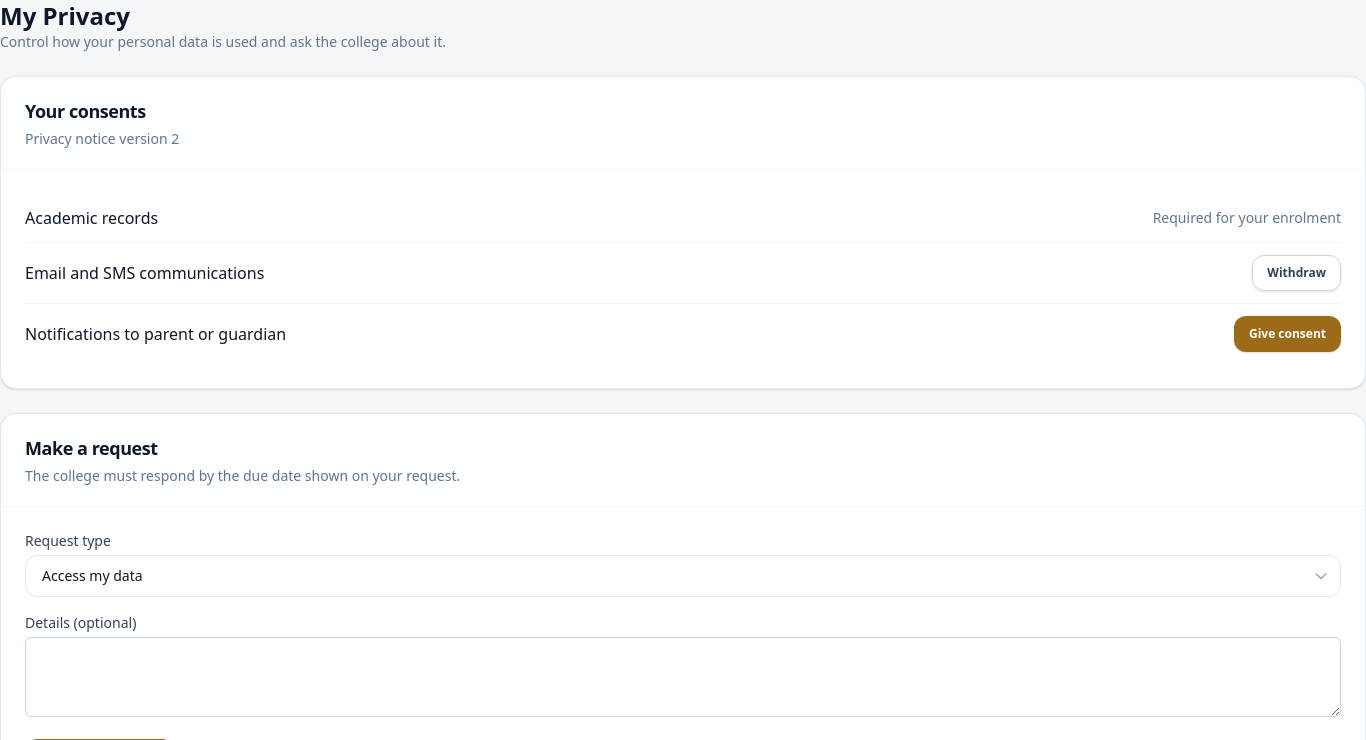
Scenario: MyPrivacyPage › does not submit a grievance without a description
This screenshot has width=1366, height=740.
Select "Raise a grievance" in the dropdown labelled "Request type": (683, 576) [25,555,1341,597]
(page scrolled)
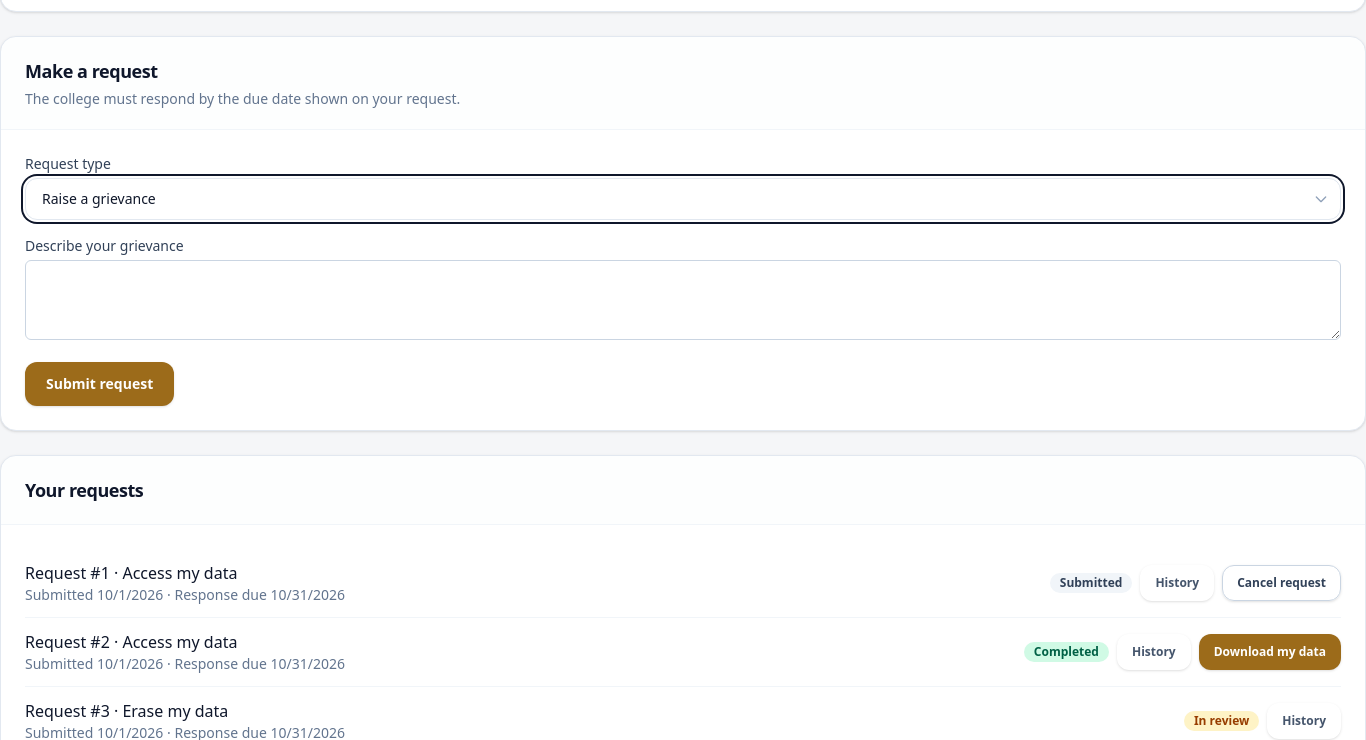
Click the button "Submit request": click(100, 384) [25,362,174,406]
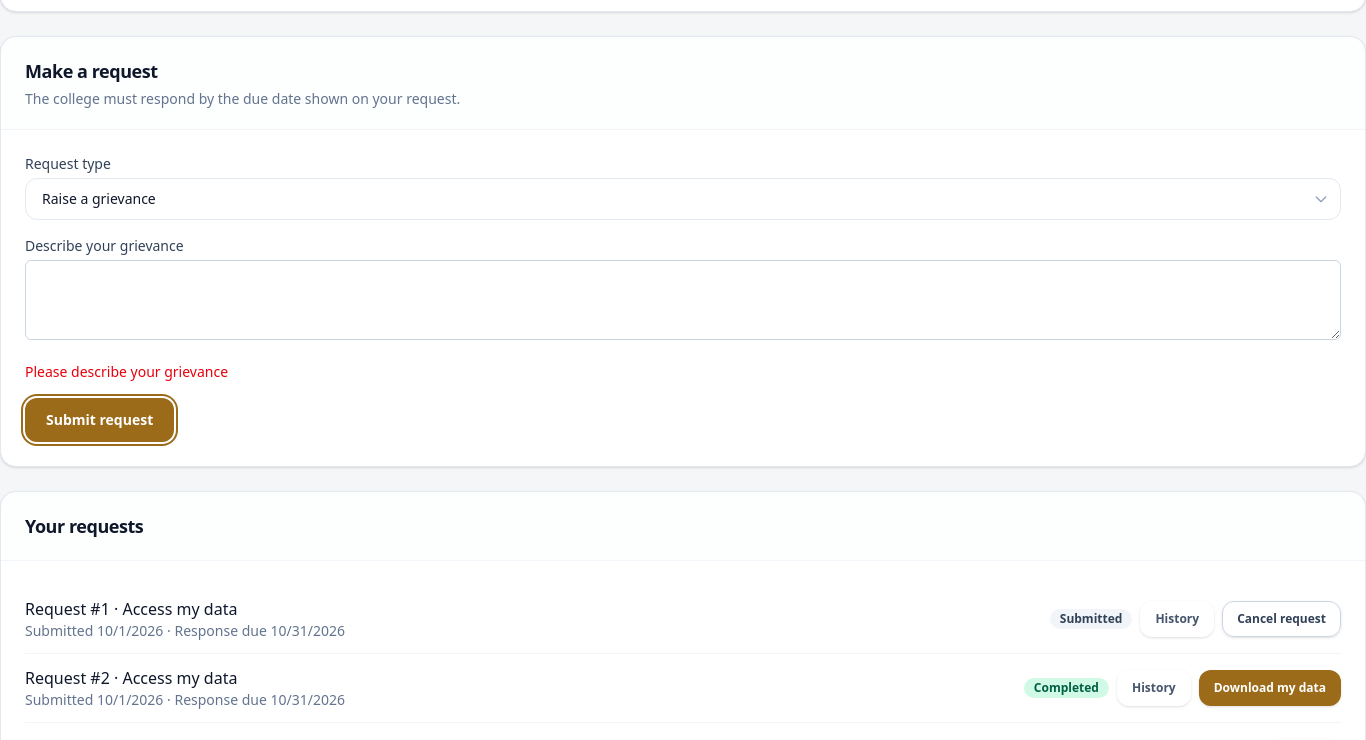
expect the text "Please describe your grievance" is shown: met, box [25,362,228,381]
